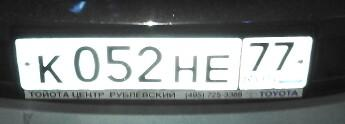license-plateSW: (14, 36, 314, 91)
